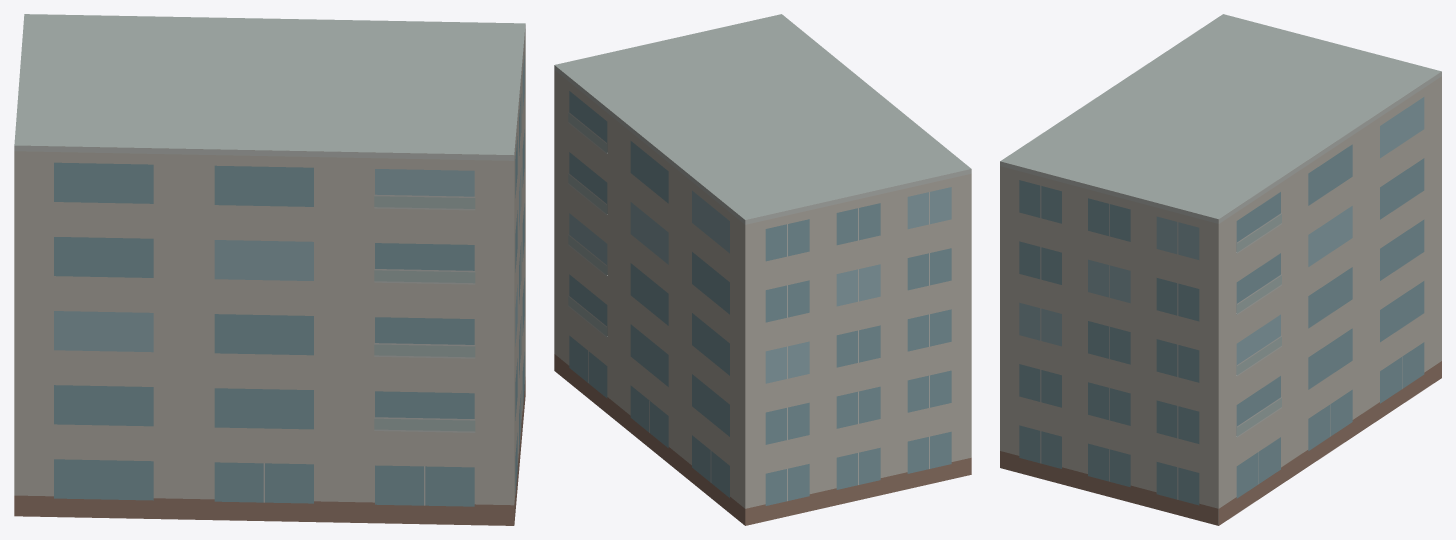
Rendered from survey-upis-33046392.glb.
3 views of the same model, side by side, from view 1: azimuth 30°, elevation 25°; view 2: azimuth 150°, elevation 25°; view 3: azimuth 270°, elevation 25° (orthographic). The views are drawn at different scales.
Visible parts, largest first — view 1: survey-upis-33046392.tmp; view 2: survey-upis-33046392.tmp; view 3: survey-upis-33046392.tmp.
Part boxes in pixels (x1=…): survey-upis-33046392.tmp: x1=14, y1=14, x2=525, y2=525; survey-upis-33046392.tmp: x1=554, y1=14, x2=971, y2=525; survey-upis-33046392.tmp: x1=1000, y1=14, x2=1441, y2=525.
Bounding box in the file's own units: 22.46 × 15.64 × 20.43.
